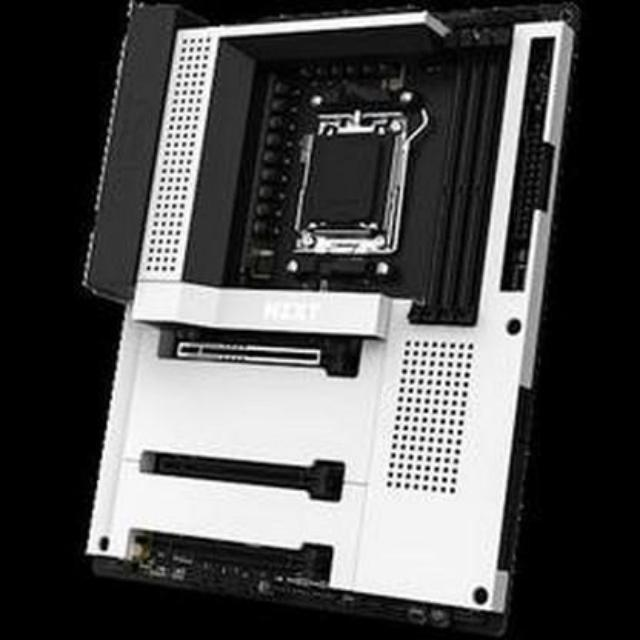Mainboard: (61, 5, 590, 630)
